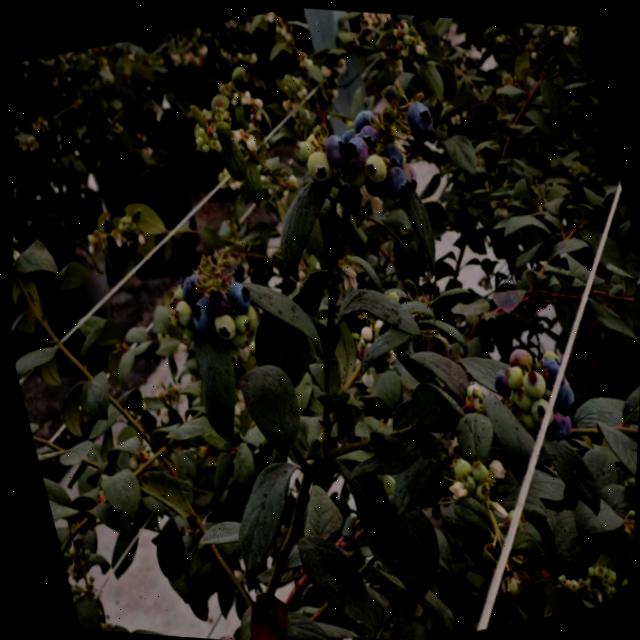RipeBlueBerry: (375, 160, 414, 203), (402, 96, 439, 141), (183, 294, 219, 339), (537, 403, 576, 442), (221, 275, 255, 316), (332, 177, 365, 214), (548, 378, 580, 415)
Semi-RipeBlueBerry: (321, 129, 353, 172), (341, 131, 373, 170), (198, 282, 232, 318)
UnripeBlueBerry: (301, 145, 337, 185), (515, 363, 548, 400), (359, 149, 391, 185), (207, 310, 239, 344)
